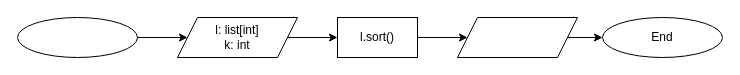
Image size: 740x75. Some labels were removed from this diagram. Here are the shapes that lost their labels. From the top down, the centre of each, then its label:
At point 77,37: "Start".
At point 517,37: "l[-k:]".
